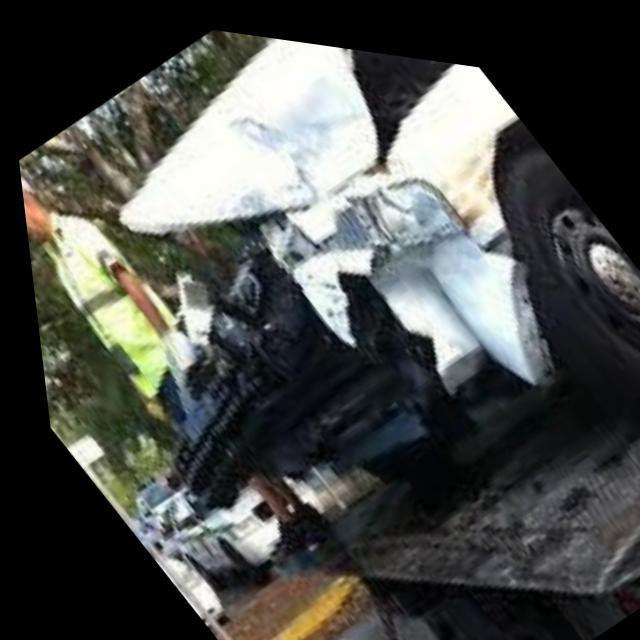crash: (120, 31, 543, 513)
